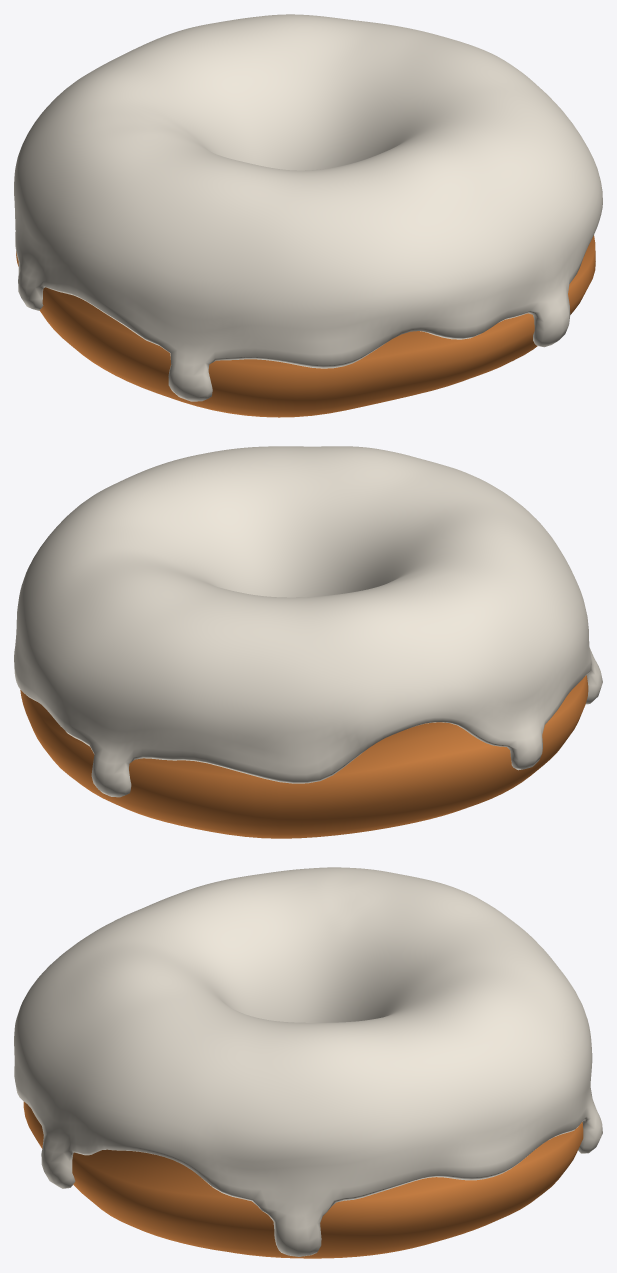
The model's file is donut.fbx.
3 renders of one model, top to bottom at view 1: azimuth 30°, elevation 25°; view 2: azimuth 150°, elevation 25°; view 3: azimuth 270°, elevation 25°, orthographic. The views are drawn at different scales.
Parts seen in each view (by area): view 1: Icing, Donut; view 2: Icing, Donut; view 3: Icing, Donut.
Part boxes in pixels (bbox=[...]): Icing: bbox=[14, 14, 602, 401]; Donut: bbox=[16, 235, 595, 417]; Icing: bbox=[14, 446, 602, 797]; Donut: bbox=[20, 675, 588, 838]; Icing: bbox=[14, 867, 602, 1256]; Donut: bbox=[23, 1101, 583, 1258].
Size of the model in its own units: 9.86 by 4.15 by 9.91.
